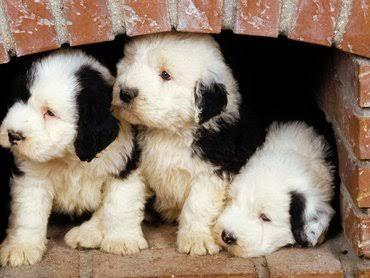puppy-dog: (0, 52, 148, 269), (111, 34, 248, 255), (222, 120, 337, 259)
